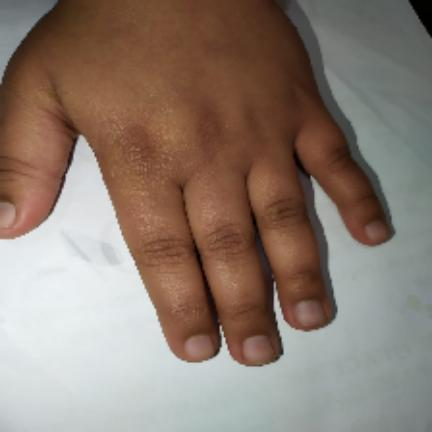Nail: (242, 334, 277, 365), (294, 300, 327, 330), (184, 334, 217, 362), (364, 219, 389, 244), (0, 202, 16, 228)
